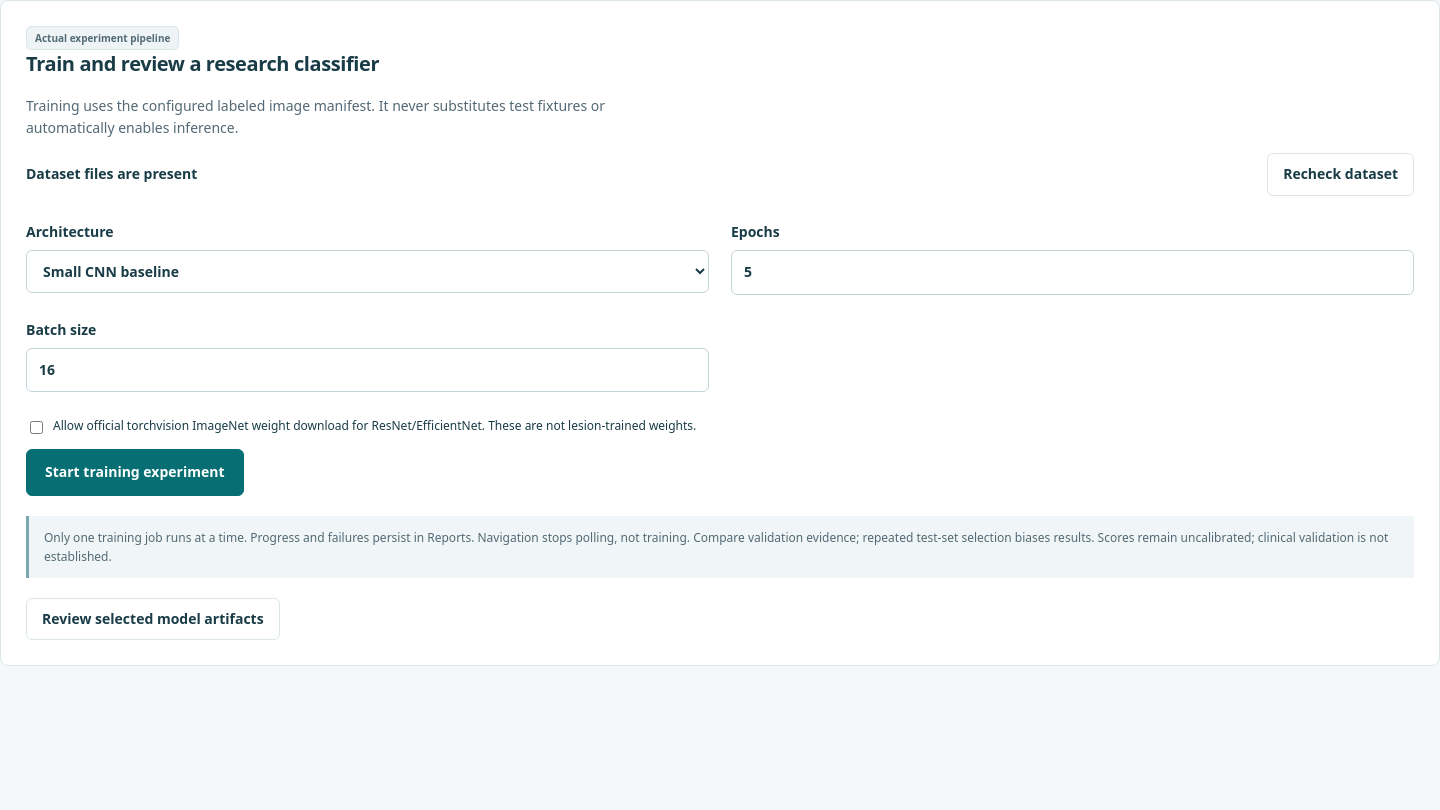
Test: shows persisted training failure instead of a successful result
Click the button "Start training experiment" at (135, 472), box [26,449,244,496]
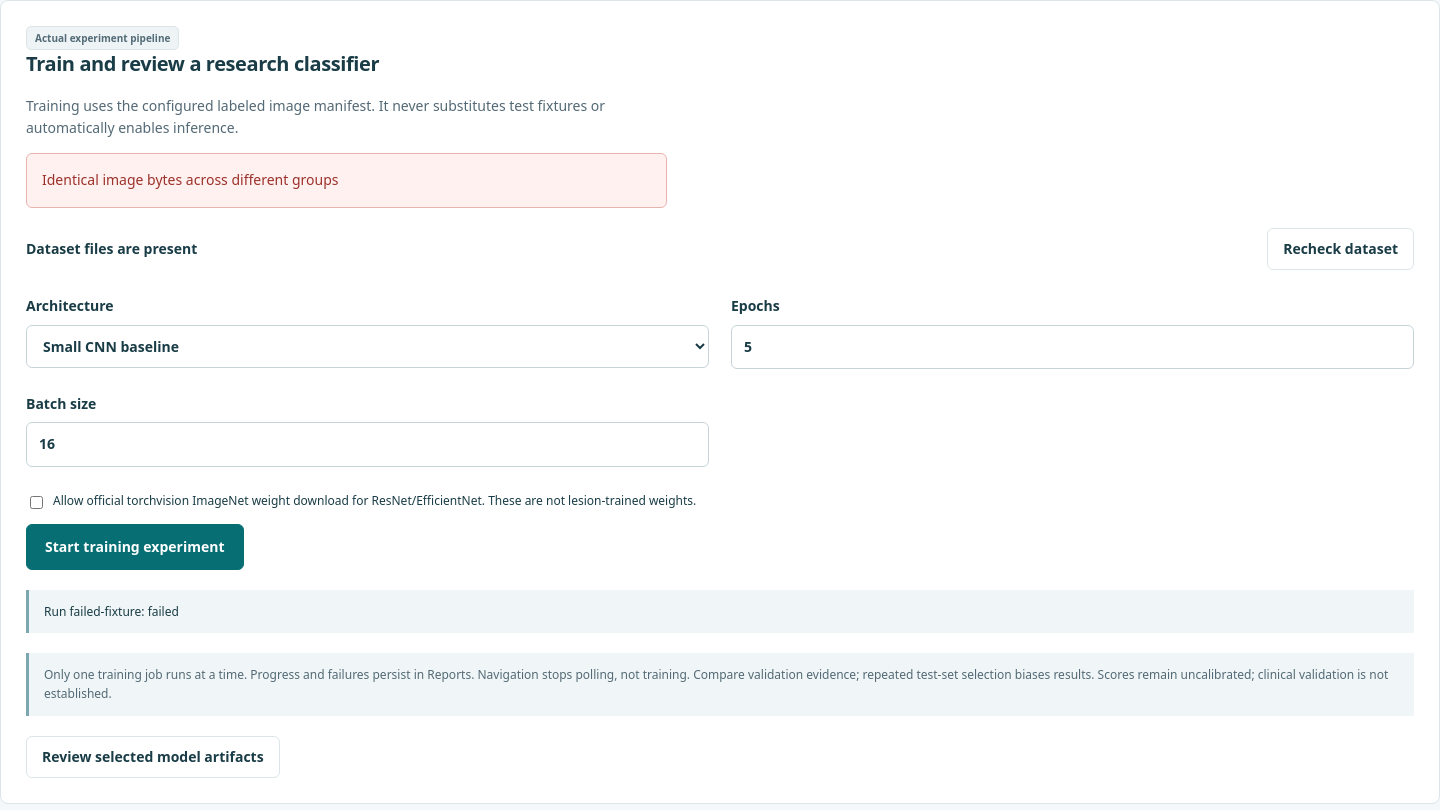
Now the message "Identical image bytes across different groups" is shown, box [26,153,667,208]
